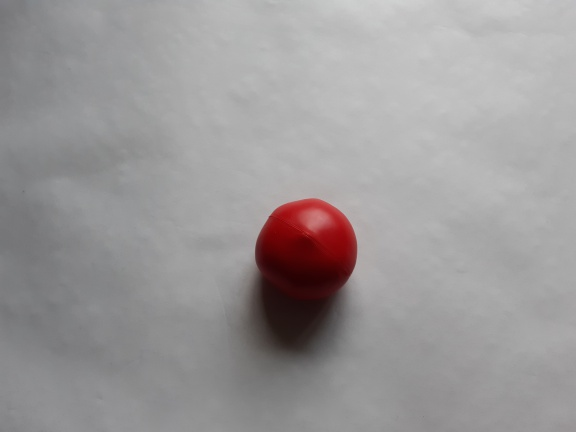tomato: (249, 191, 367, 308)
